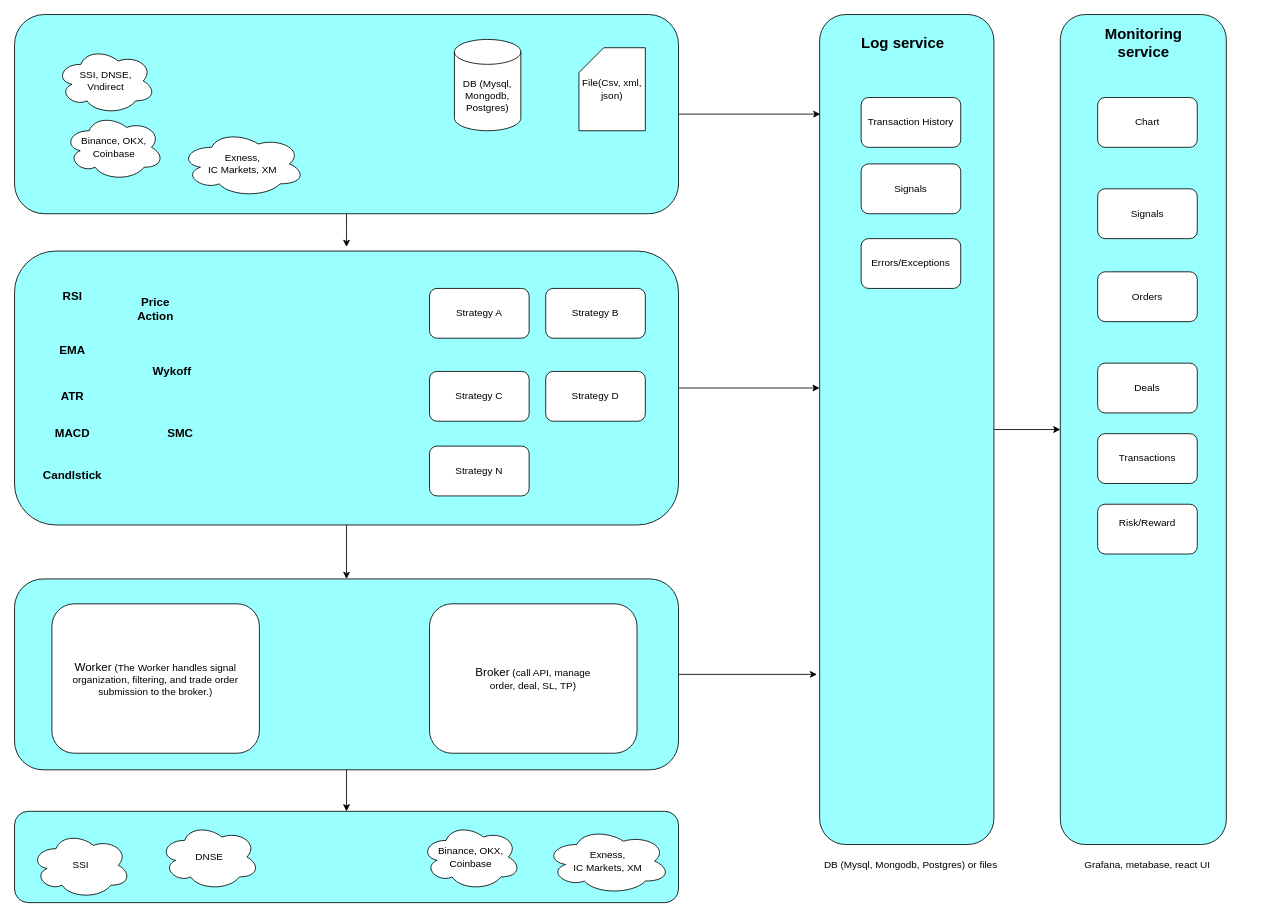
Some shapes in this 1274 by 917 pixel diagram are drawn without their labels. Each missing label, with the box of its shape:
Data service: (14, 14, 679, 214)
Exchange: (14, 810, 679, 903)
Execution service: (14, 578, 679, 770)
Signal Service: (14, 250, 679, 525)
